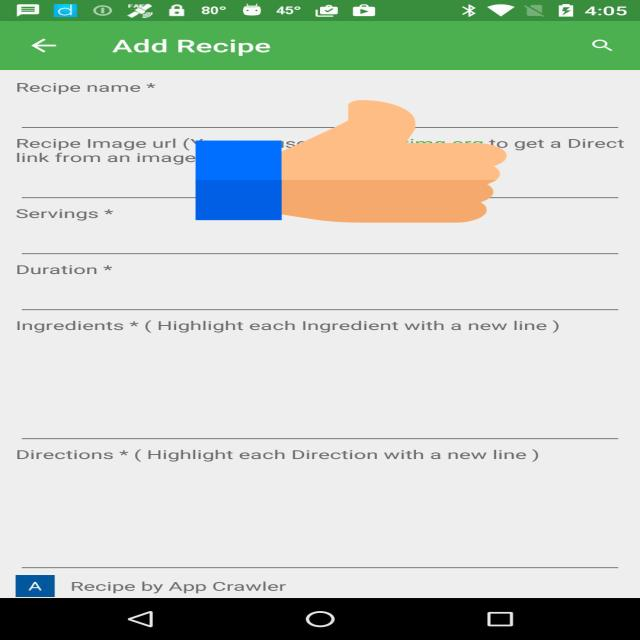privacy zuckering: (196, 97, 507, 226)
